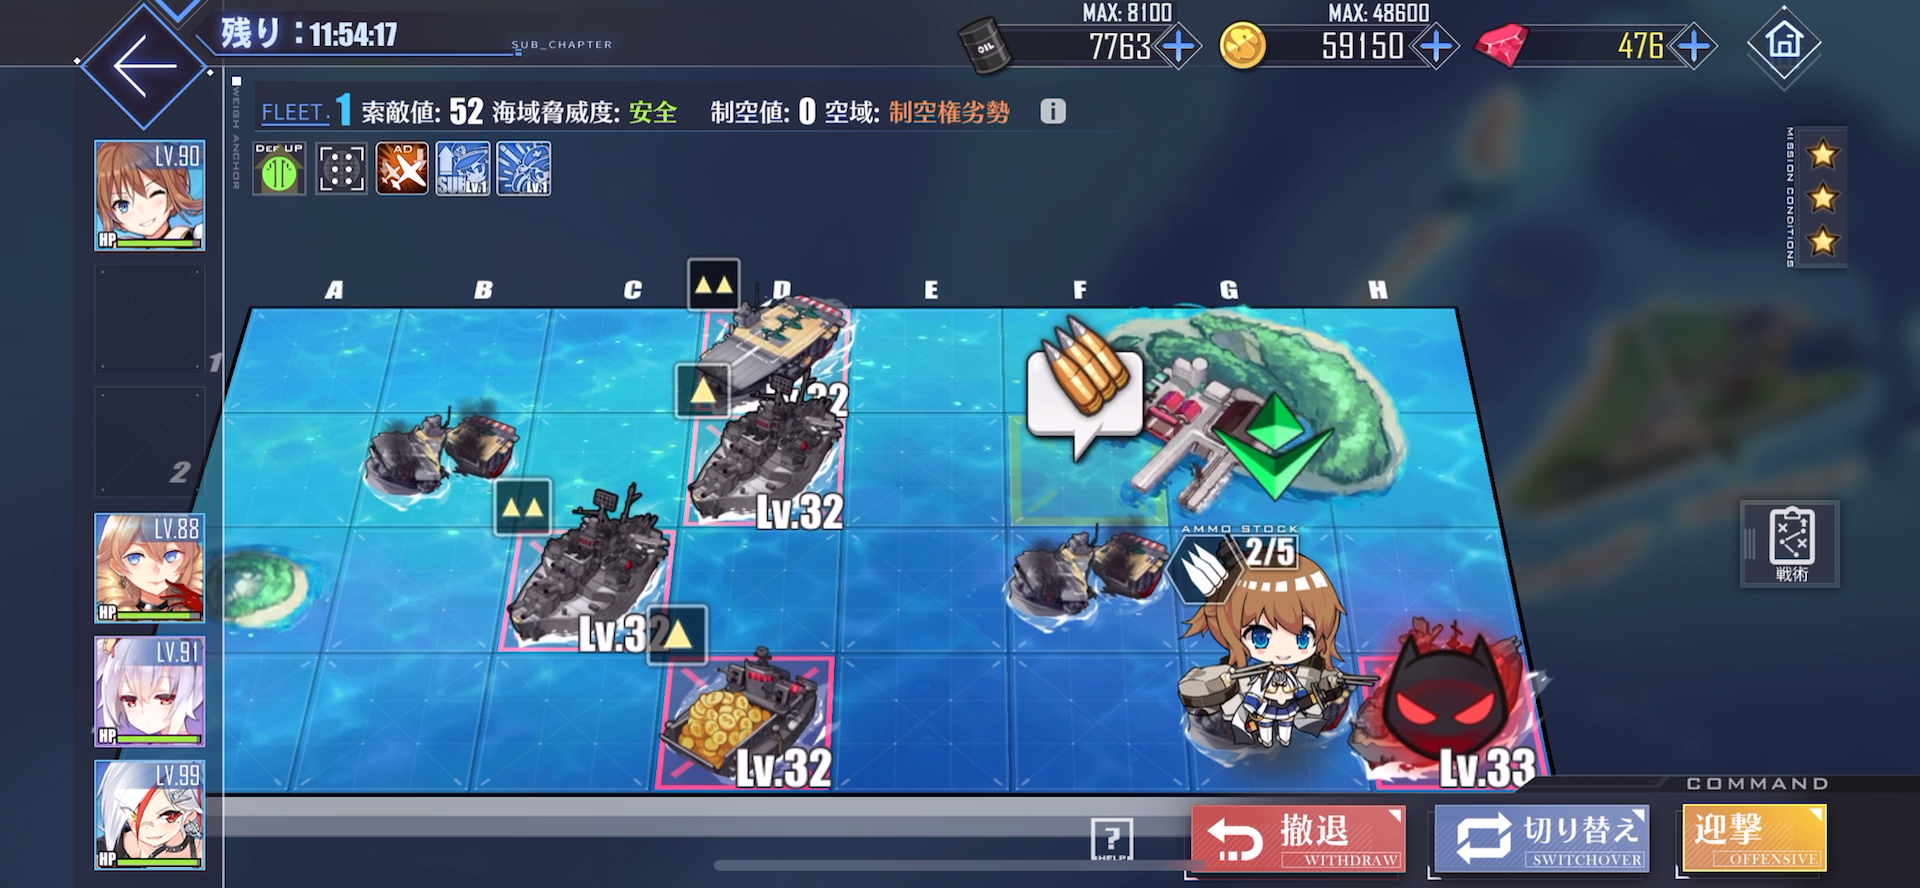boss: (1347, 616, 1550, 789)
